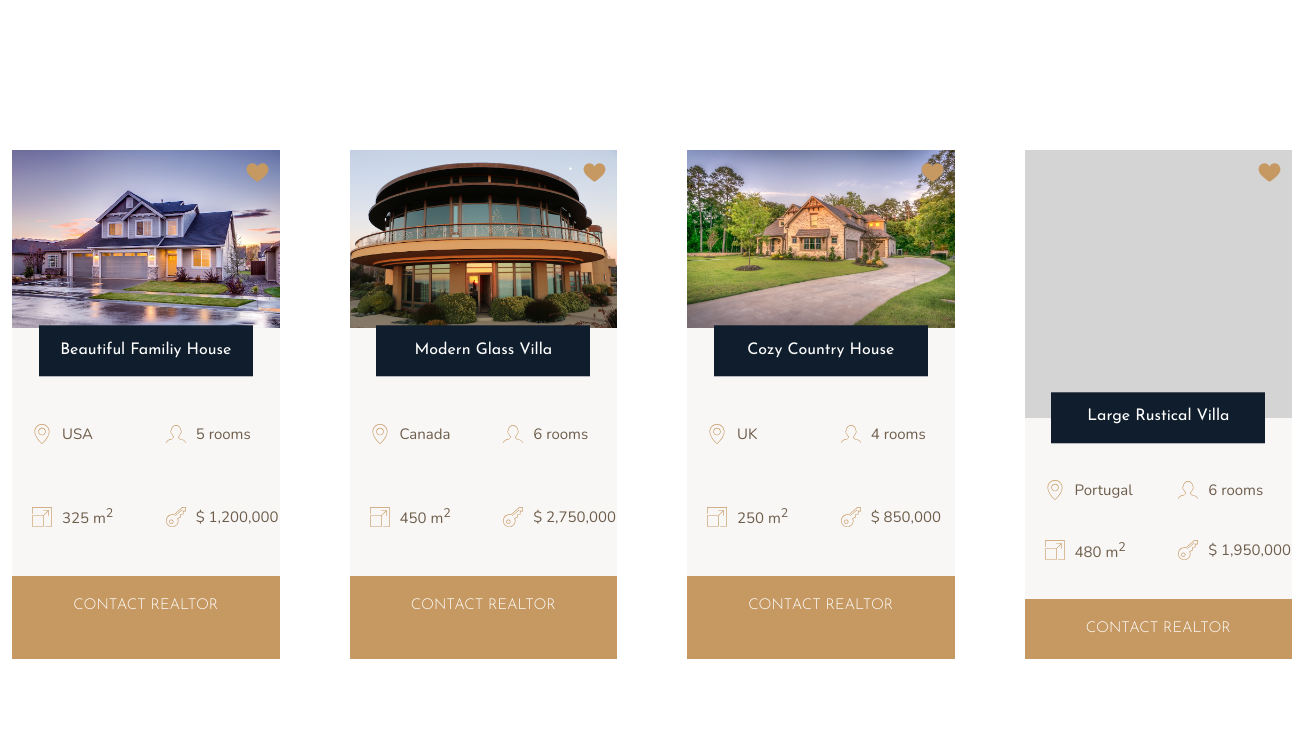
Test: <PropertiesSection /> › should render RealtorModal when click on HouseCard button
Click the button with class "House__btn" below "325". click: [146, 606]
box: [12,576,280,658]
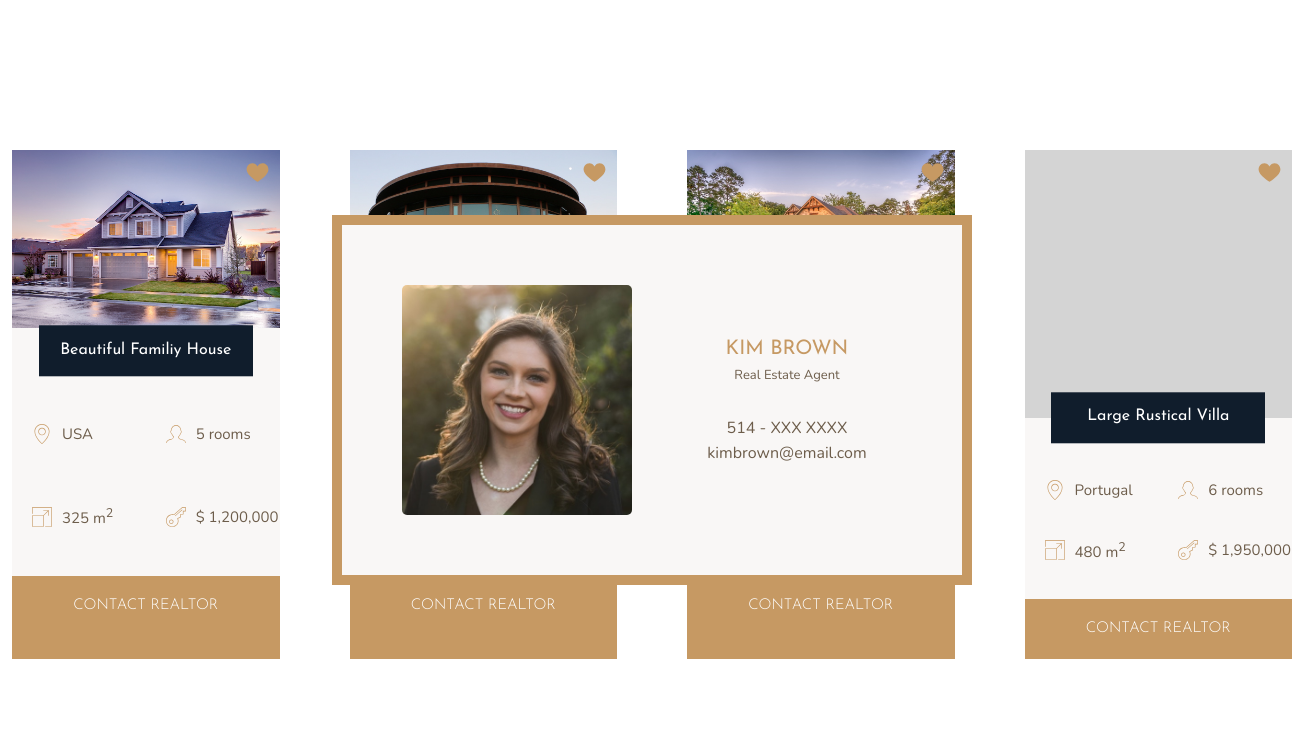
Check: the element with class "Modal" is shown, box [332,215,972,585]
